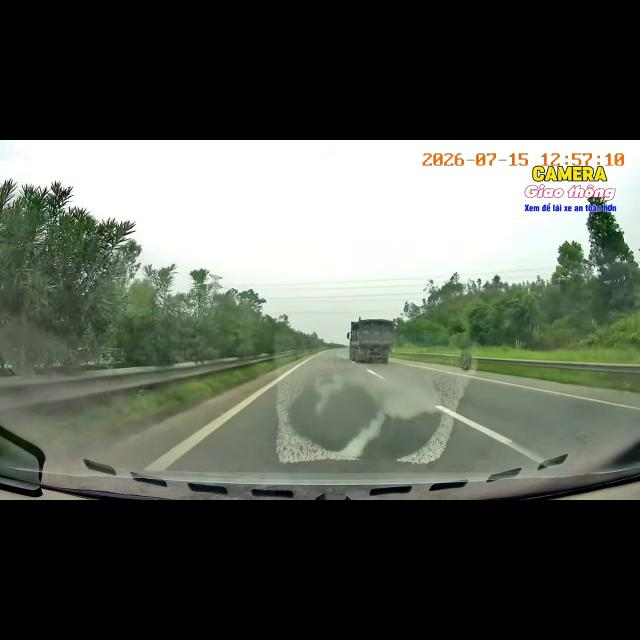truck: (347, 318, 395, 363)
